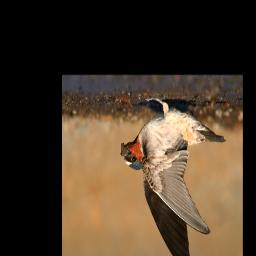Swallow: (120, 96, 227, 256)
